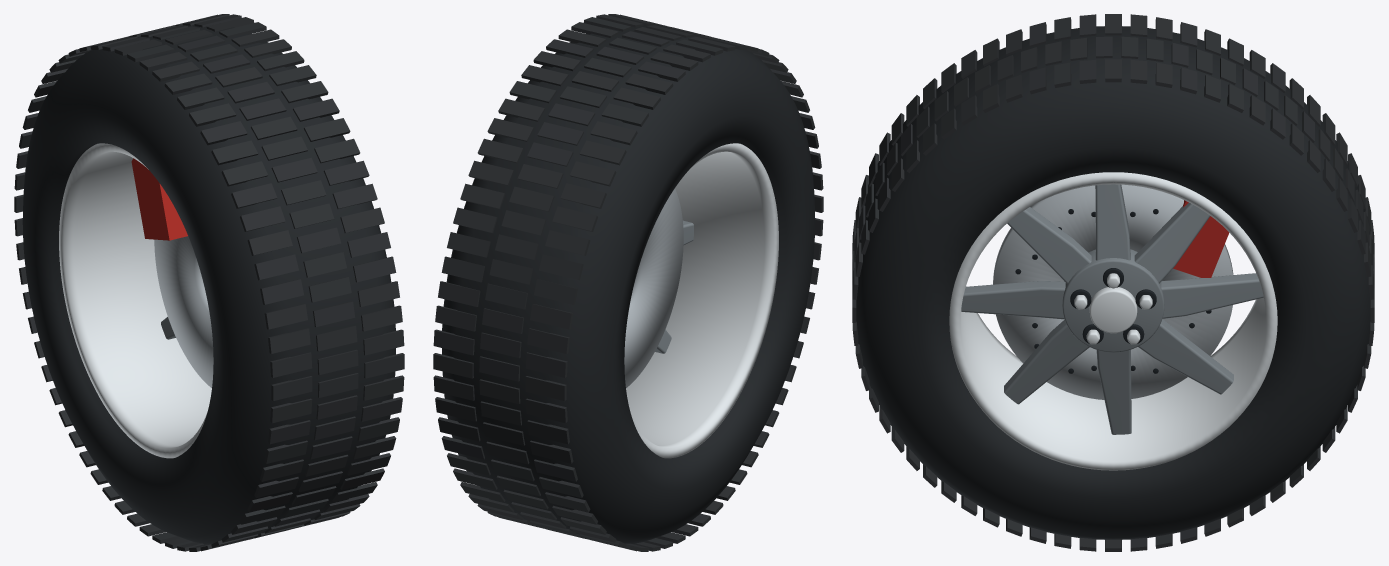
The model's file is AE86_wheel.glb.
The picture shows the model from 3 angles, left to right: view 1: azimuth 30°, elevation 25°; view 2: azimuth 150°, elevation 25°; view 3: azimuth 270°, elevation 25°; orthographic projection.
Visible parts, largest first — view 1: wheel, break; view 2: wheel, break; view 3: wheel, break.
Boxes of the visible parts, x1=… form: wheel: x1=14, y1=14, x2=404, y2=551; break: x1=131, y1=158, x2=213, y2=387; wheel: x1=433, y1=14, x2=823, y2=551; break: x1=624, y1=188, x2=683, y2=387; wheel: x1=852, y1=14, x2=1374, y2=551; break: x1=993, y1=184, x2=1233, y2=399.
Size of the model in its own units: 0.216 by 0.594 by 0.594.
